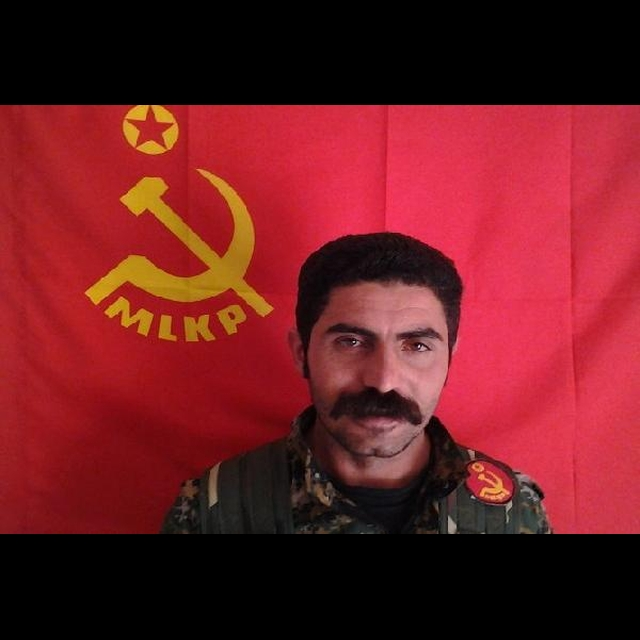MLKP: (83, 105, 278, 351)
